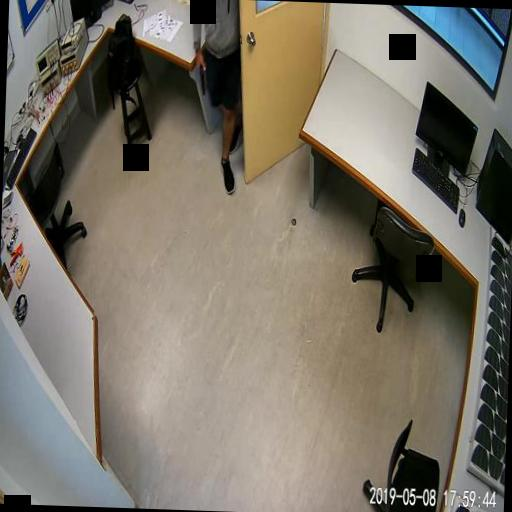Handgun: (194, 58, 204, 95)
